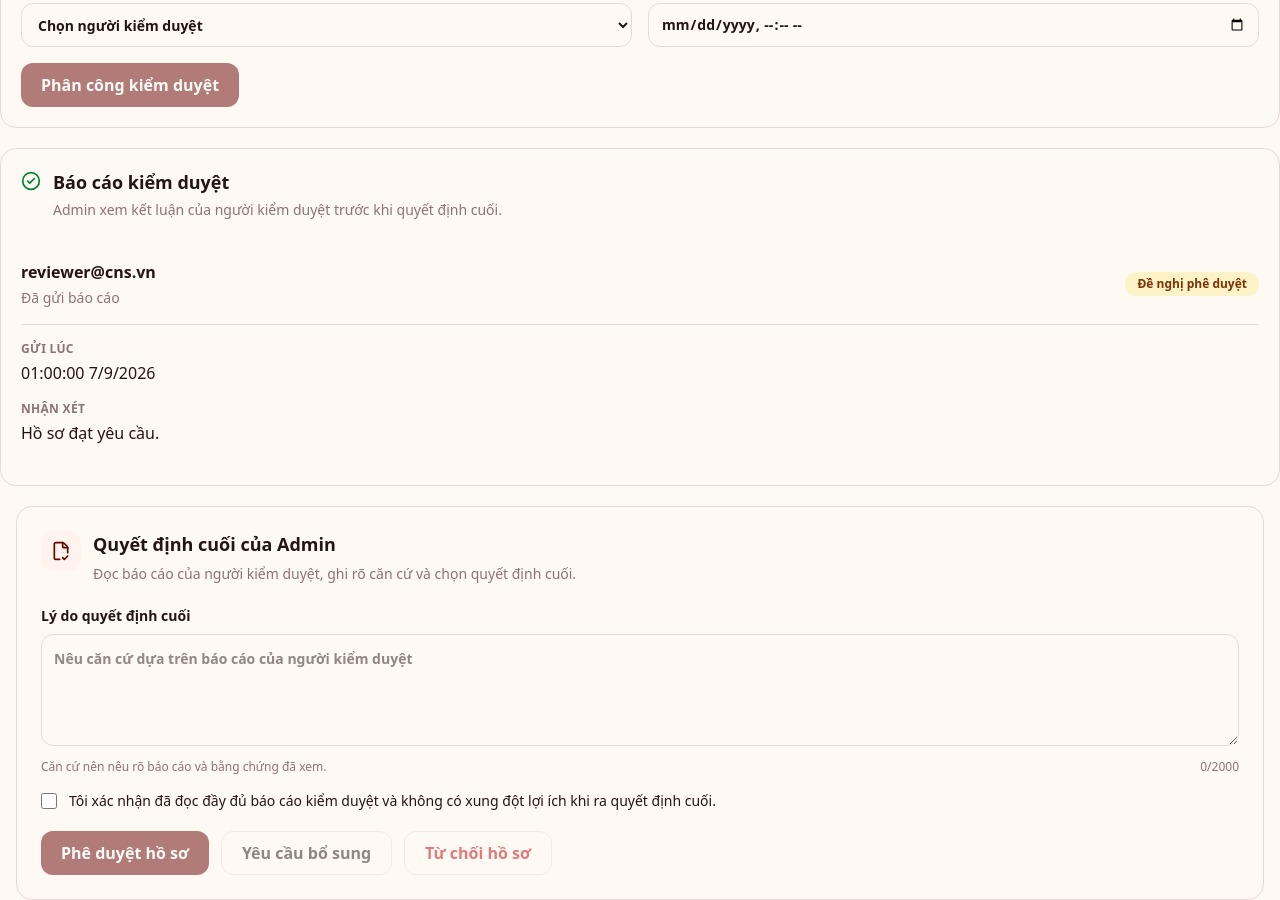
it: ReviewAssignmentQueue › shows a submitting state while the admin decision is pending
(page scrolled)
Type "Đồng ý với báo cáo kiểm duyệt" into the text box labelled "Lý do quyết định cuối" at (640, 690), box [41,634,1239,746]
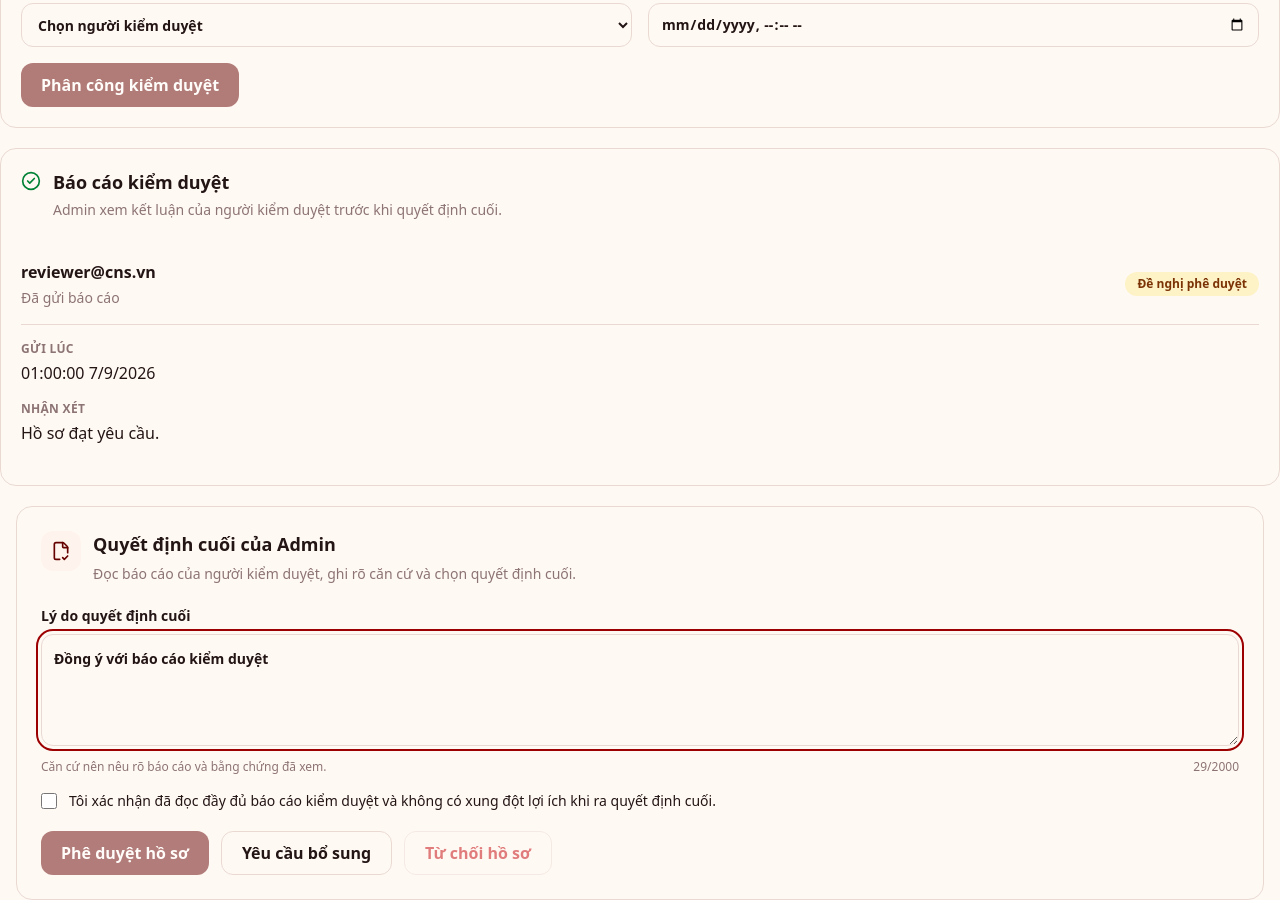
Click the checkbox labelled "không có xung đột lợi ích" at (49, 801), box [41,793,57,809]
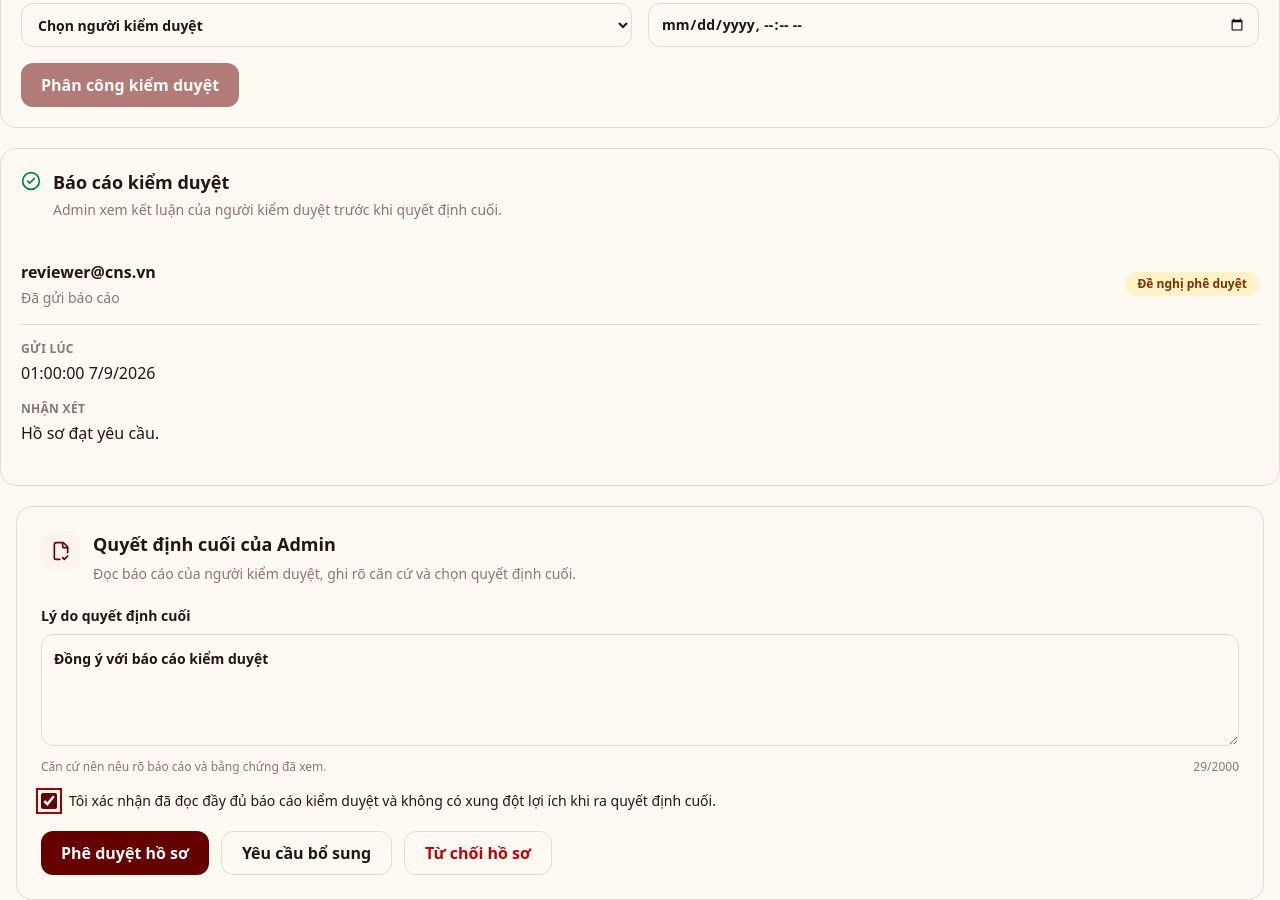
Click the button "Phê duyệt hồ sơ" at (125, 853), box [41,831,209,875]
(page scrolled)
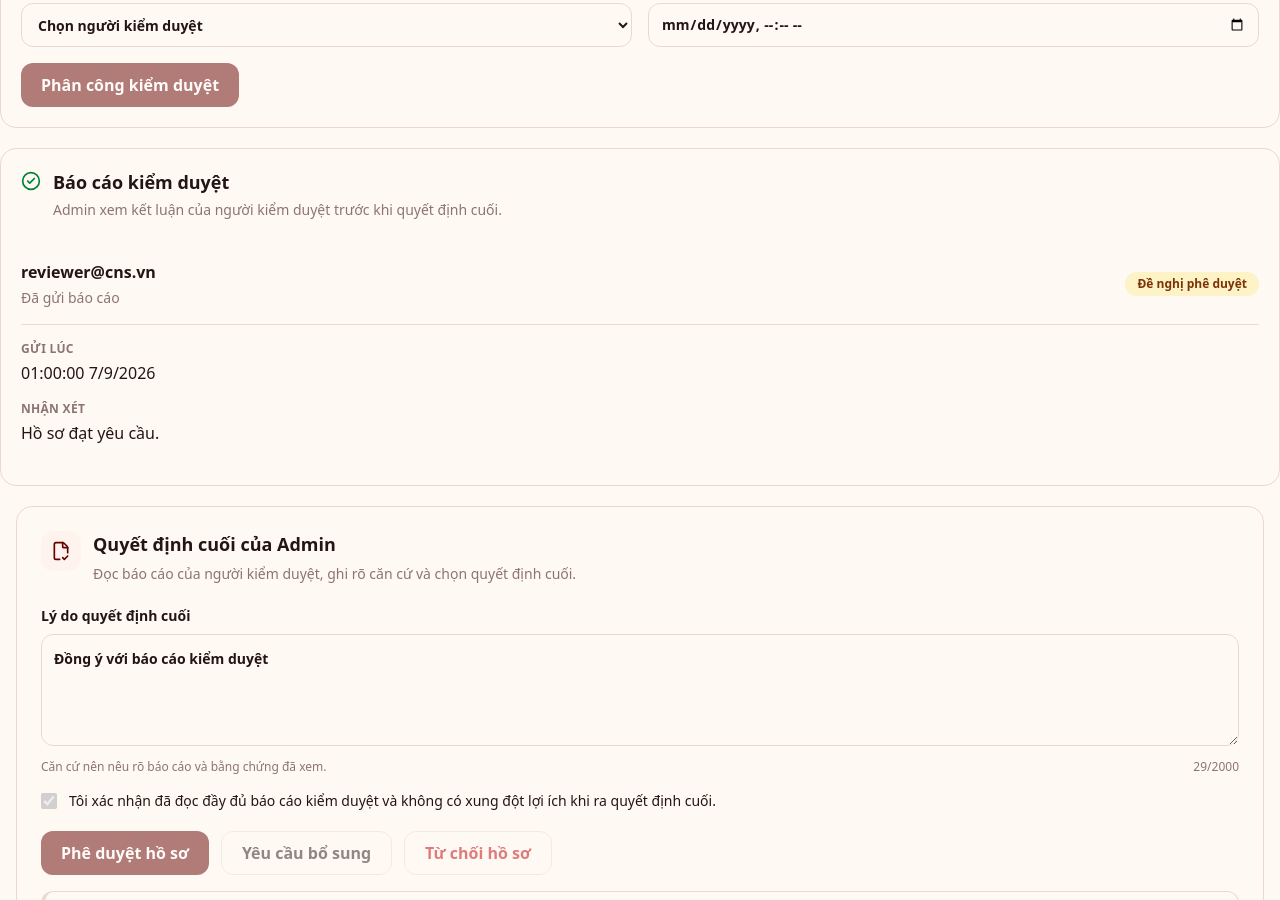
Check: the button named "Đang phê duyệt…" is disabled, box [41,831,209,875]
